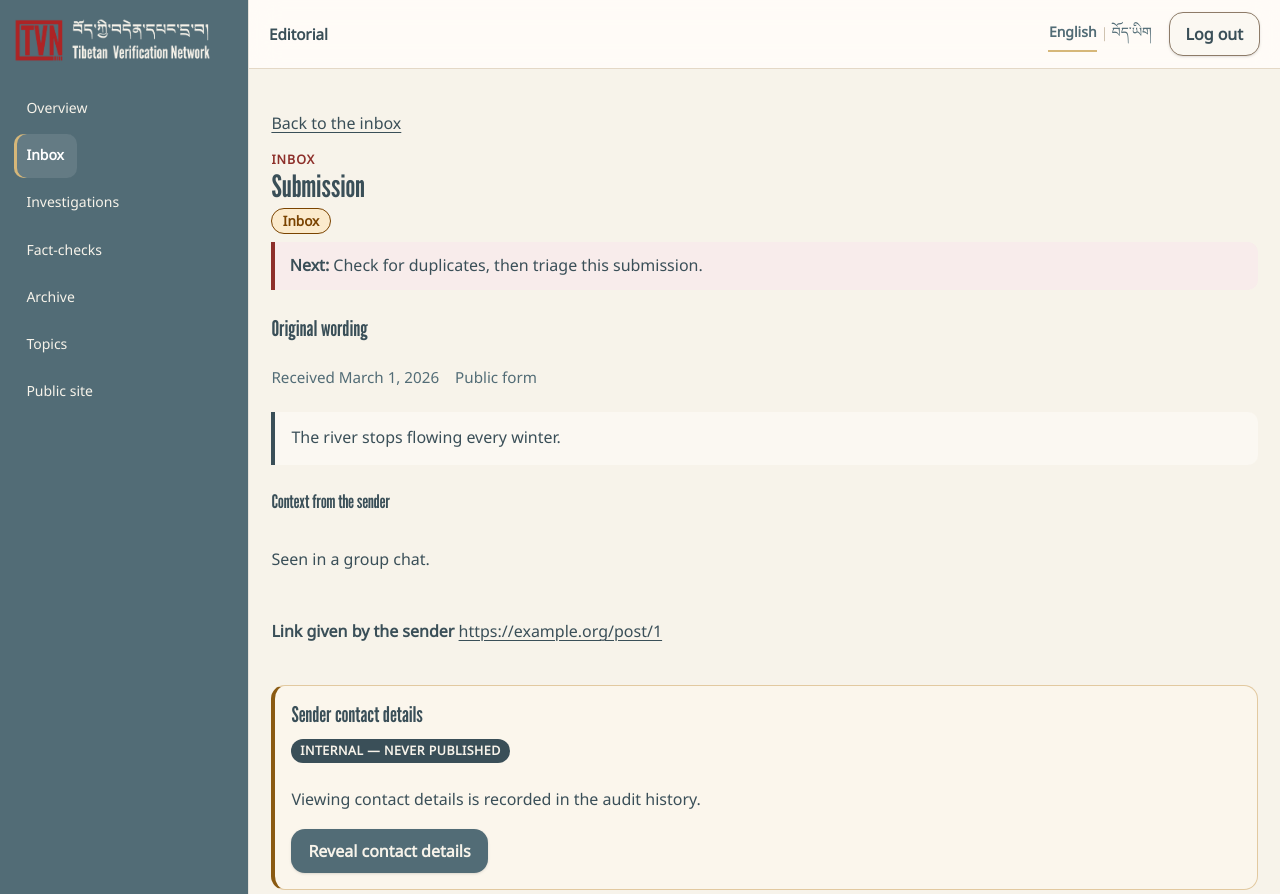
Test case: submission detail › fetches contact details only after an explicit reveal and drops them when hidden
Step 1. Click the button "Reveal contact details" → x=390, y=851, box [291,829,488,873]
(page scrolled)
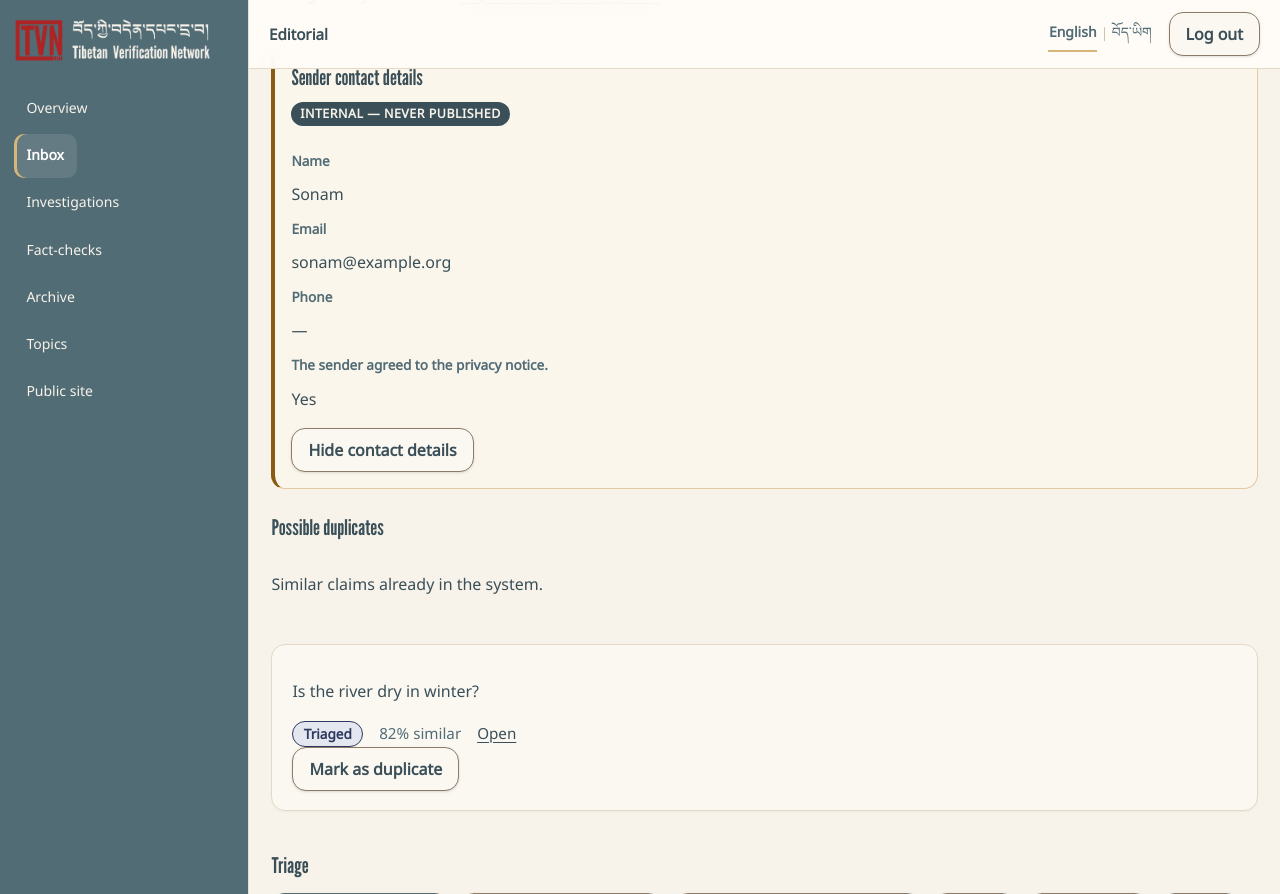
Expected: the text "sonam@example.org" is shown, [291,251,451,273]
Step 2. Click the button "Hide contact details" → x=382, y=450, box [291,428,474,472]
(page scrolled)
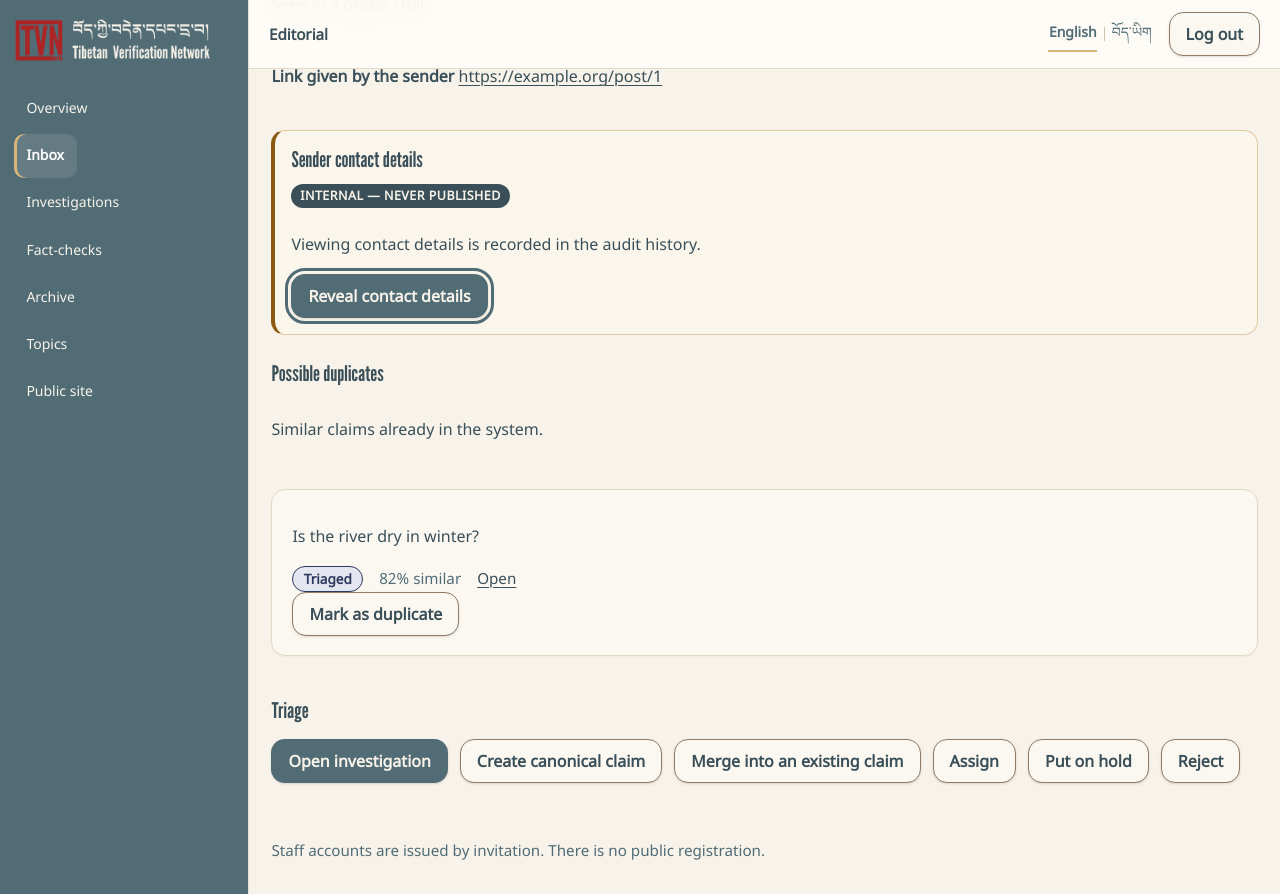
Expected: the text "sonam@example.org" is gone
